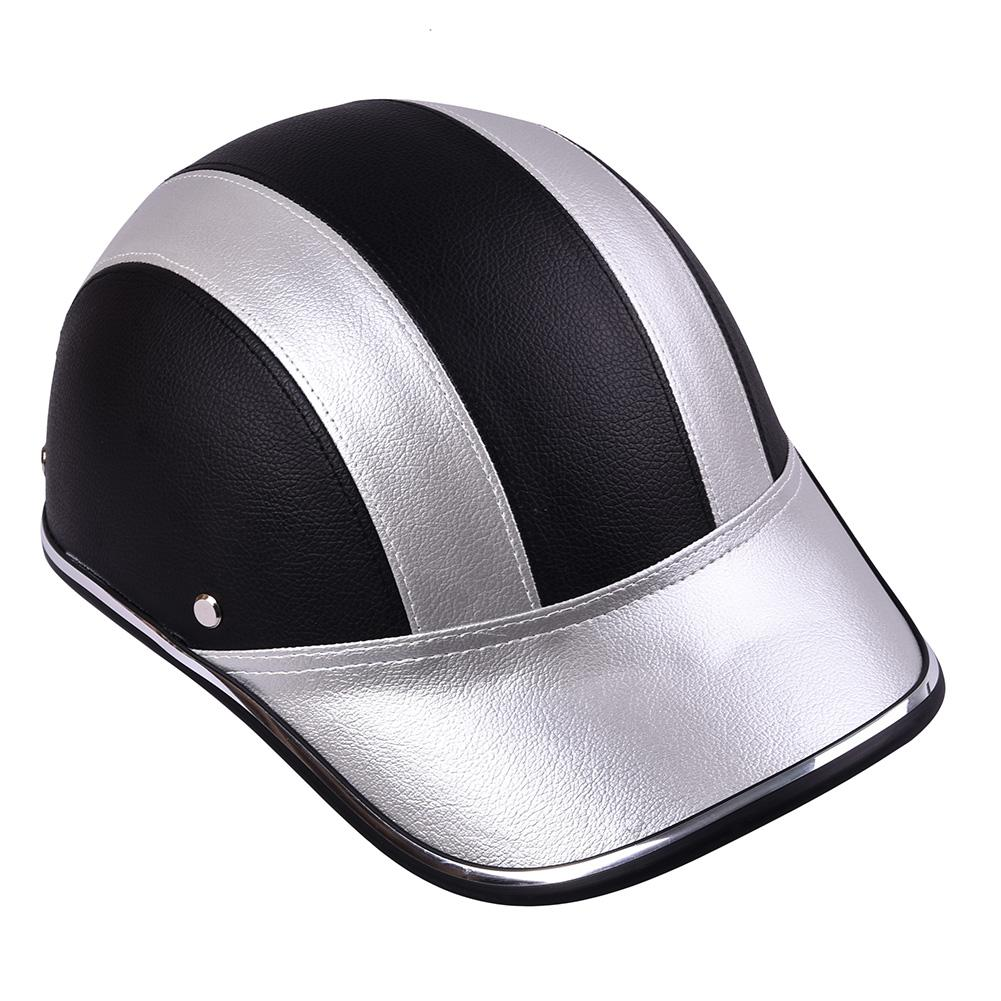helmet: (25, 80, 965, 951)
